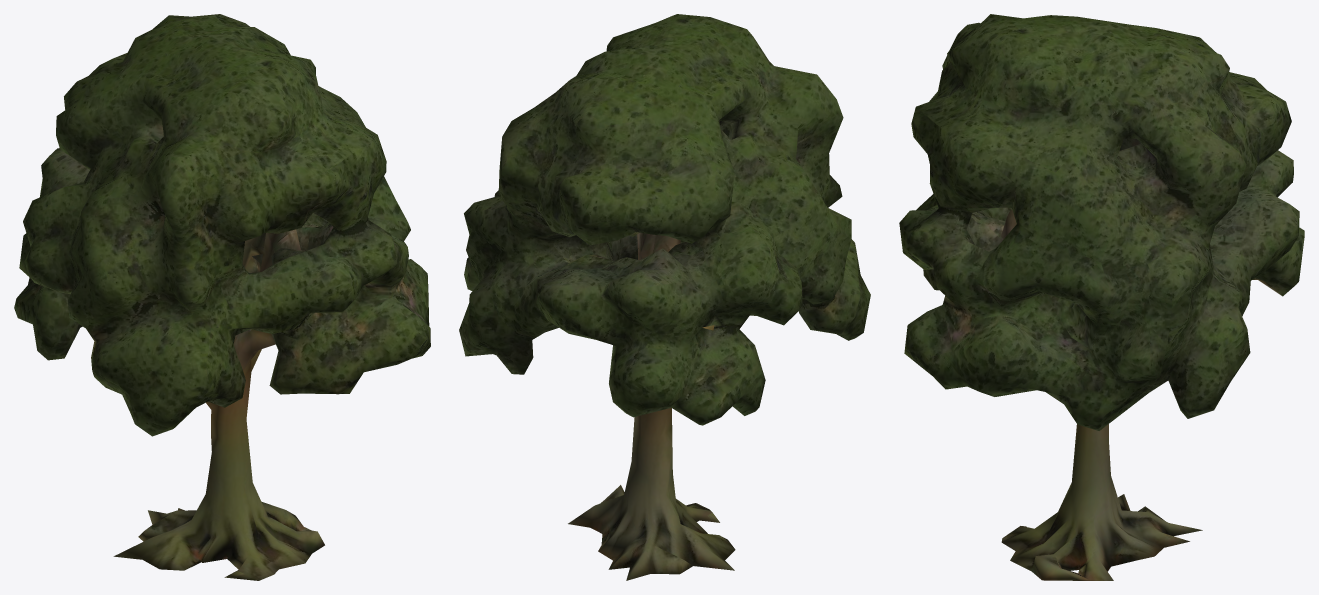
File: tree1.glb
3 renders of one model, left to right at view 1: azimuth 30°, elevation 25°; view 2: azimuth 150°, elevation 25°; view 3: azimuth 270°, elevation 25°, orthographic. The views are drawn at different scales.
Visible parts, largest first — view 1: tree1; view 2: tree1; view 3: tree1.
Part boxes in pixels (left/top/right/bottom): tree1: left=14, top=14, right=430, bottom=580; tree1: left=459, top=14, right=870, bottom=580; tree1: left=899, top=14, right=1304, bottom=580.
Bounding box in the file's own units: 8.49 × 12 × 8.53.
Materials: 1 (1 with a texture image).
